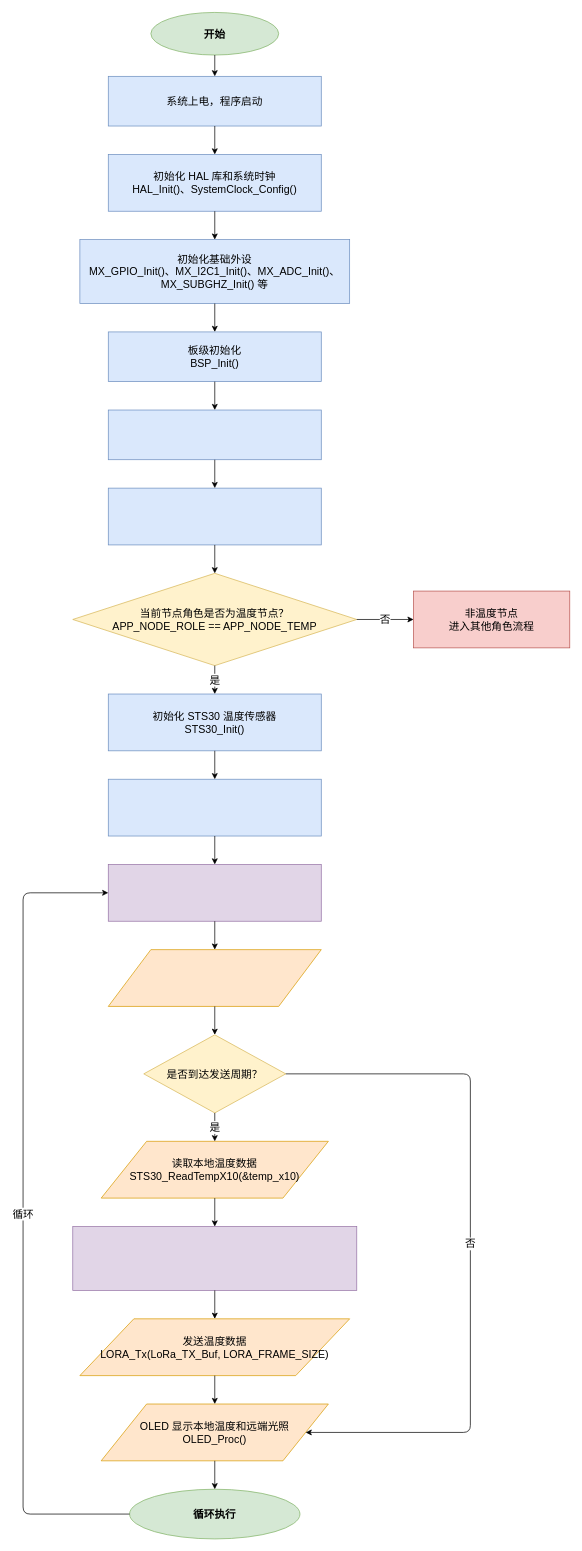
Image size: 582x1551. Some labels were removed from this diagram. Each missing label, with the box of its shape:
初始化 LoRa 通信模块 BSP_RADIO_Init()、LORA_Init(): (108, 487, 321, 545)
初始化 OLED 显示模块 OLED_Init(): (108, 409, 321, 460)
周期性执行 LoRa 任务 LoRa_Proc(): (108, 864, 321, 921)
封装温度数据帧 BuildFrame(LoRa_TX_Buf, LORA_FRAME_TYPE_TEMP, temp_x10): (72, 1226, 357, 1290)
接收远端光照数据 ReceiveRemoteFrame(): (108, 949, 321, 1006)
进入温度节点状态 State = STATE_TEMP_NODE: (108, 779, 321, 836)
